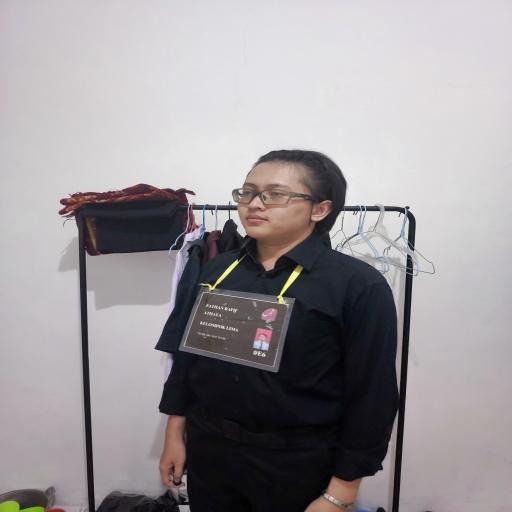celana_benar: (182, 435, 348, 512)
kemeja_salah: (166, 251, 408, 431)
nametag_ada: (180, 270, 301, 377)
sabuk_ada: (182, 416, 356, 450)
